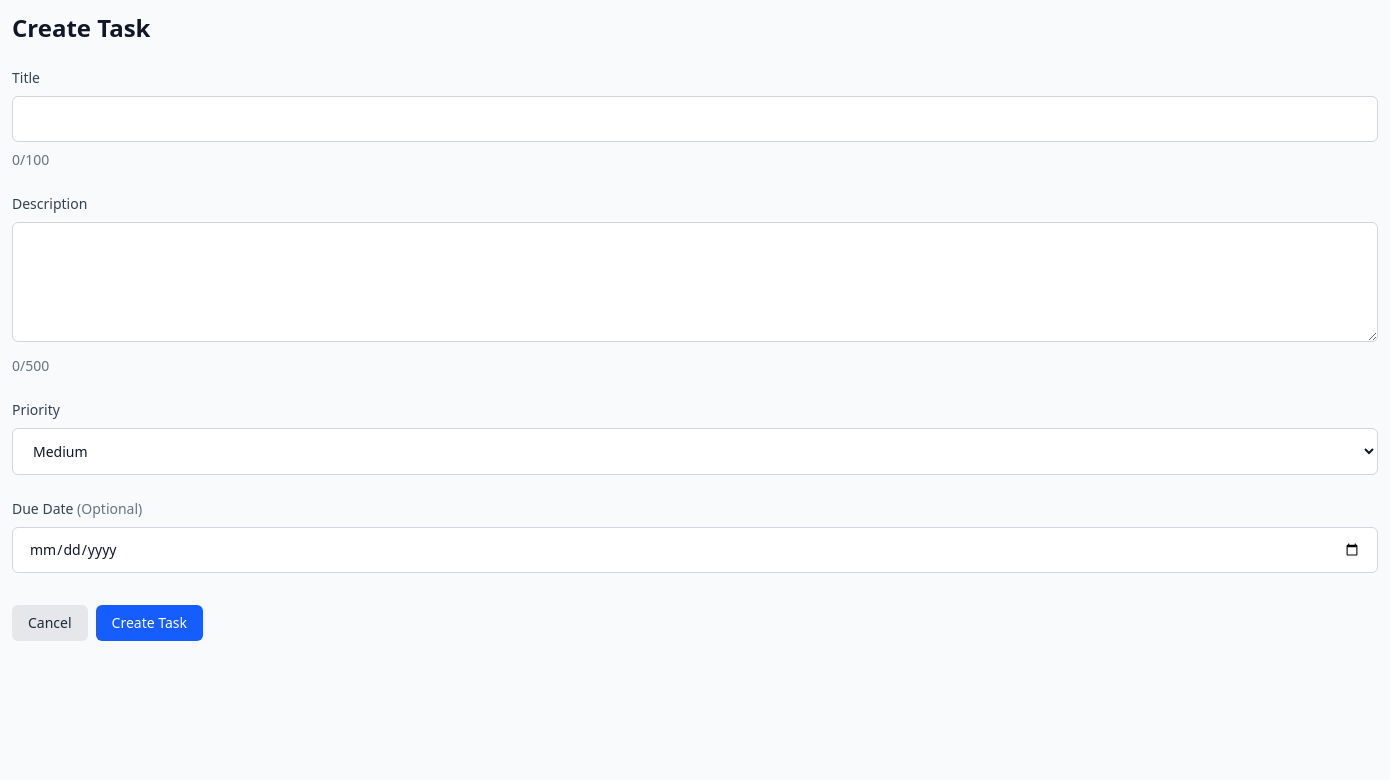
Test: TaskForm Component › User Story 1.1: Create Task - Validation › should update character count as user types description
This screenshot has width=1390, height=780.
In the text box labelled "Description": {"x": 695, "y": 282} [12, 222, 1378, 342], type "Hello World"
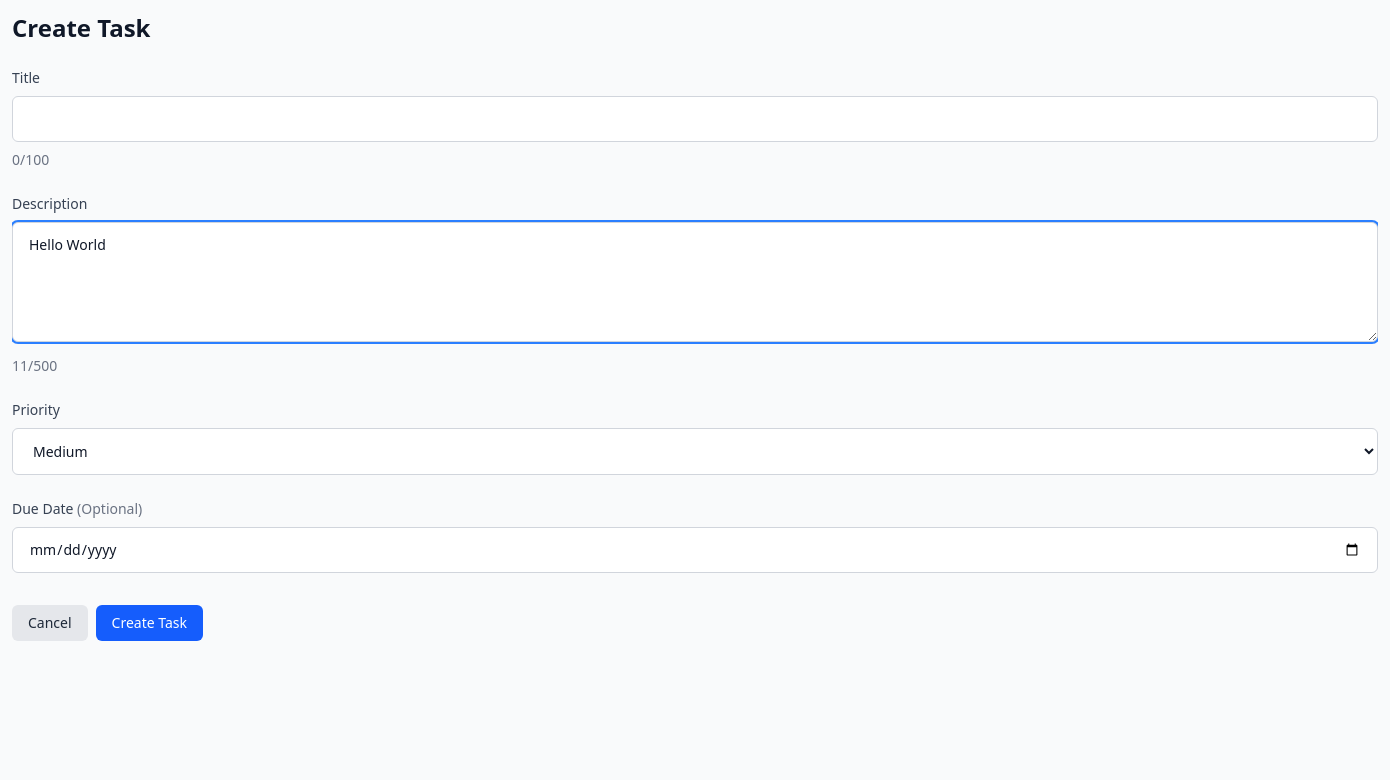
expect the text "11/500" is shown: met, box [12, 356, 57, 375]
